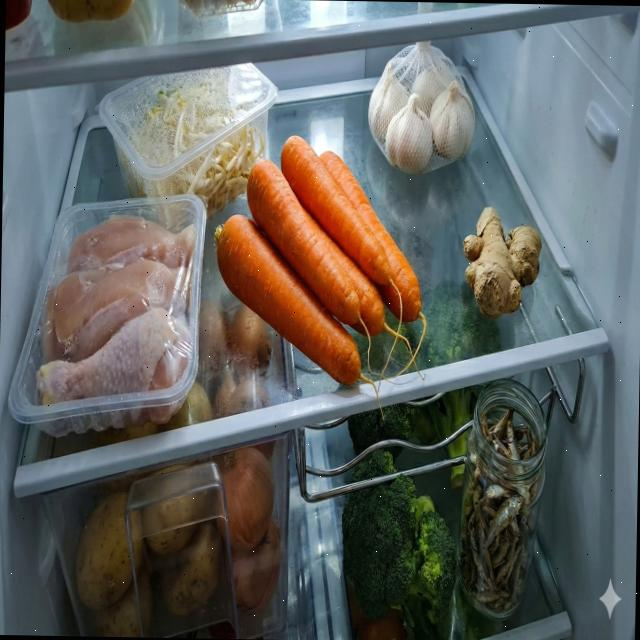anchovies: (458, 406, 542, 614)
bean_sprouts: (117, 82, 266, 236)
brocolli: (337, 276, 503, 490), (339, 449, 458, 627)
carrot: (214, 134, 425, 386)
chicken: (34, 211, 196, 409)
garlic: (367, 38, 476, 174)
ginger: (462, 204, 542, 322)
onion: (213, 446, 283, 614)
potato: (74, 461, 223, 638)
